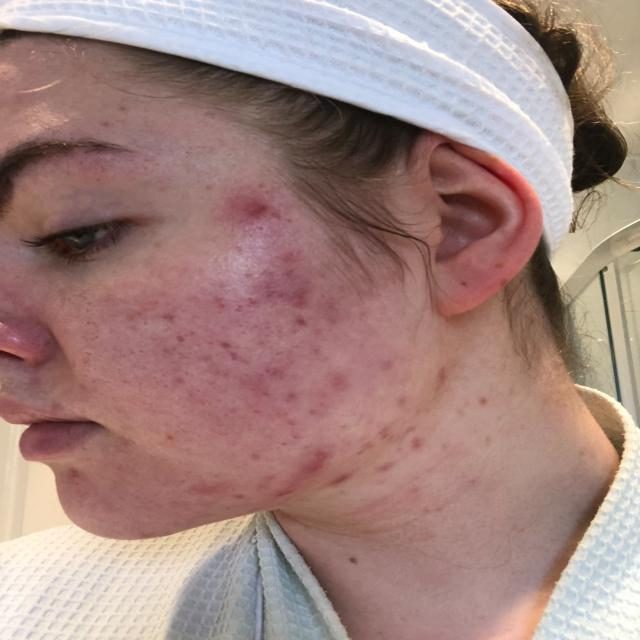Acne: (95, 185, 440, 530)
